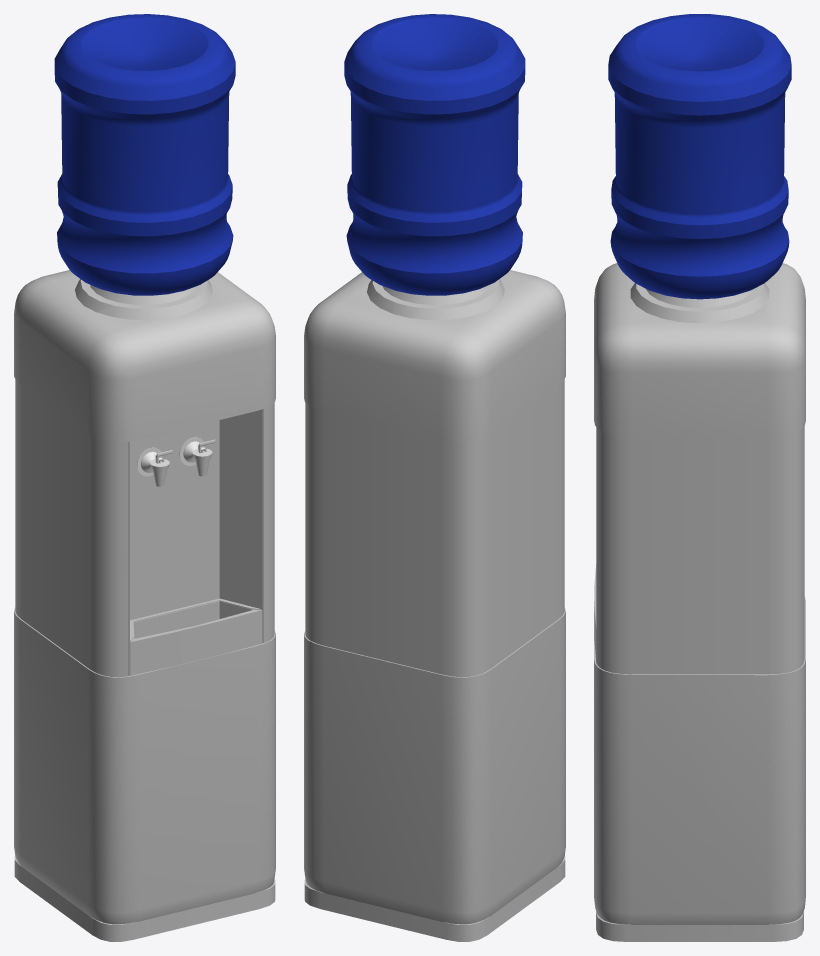
File: water_cooler.fbx
3 views of the same model, side by side, from view 1: azimuth 30°, elevation 25°; view 2: azimuth 150°, elevation 25°; view 3: azimuth 270°, elevation 25° (orthographic).
Visible parts, largest first — view 1: Plastic 01, Bottle, Plastic 02, Part 1; view 2: Plastic 01, Bottle, Plastic 02; view 3: Plastic 01, Bottle, Plastic 02.
Boxes of the visible parts, bbox=[...] form: Plastic 01: bbox=[14, 270, 275, 924]; Bottle: bbox=[54, 14, 235, 295]; Plastic 02: bbox=[14, 601, 275, 941]; Part 1: bbox=[141, 441, 212, 486]; Plastic 01: bbox=[304, 270, 565, 924]; Bottle: bbox=[344, 14, 525, 295]; Plastic 02: bbox=[304, 855, 565, 941]; Plastic 01: bbox=[594, 263, 805, 924]; Bottle: bbox=[608, 14, 791, 299]; Plastic 02: bbox=[594, 564, 803, 941].
Bounding box in the file's own units: 28.11 × 124 × 28.
